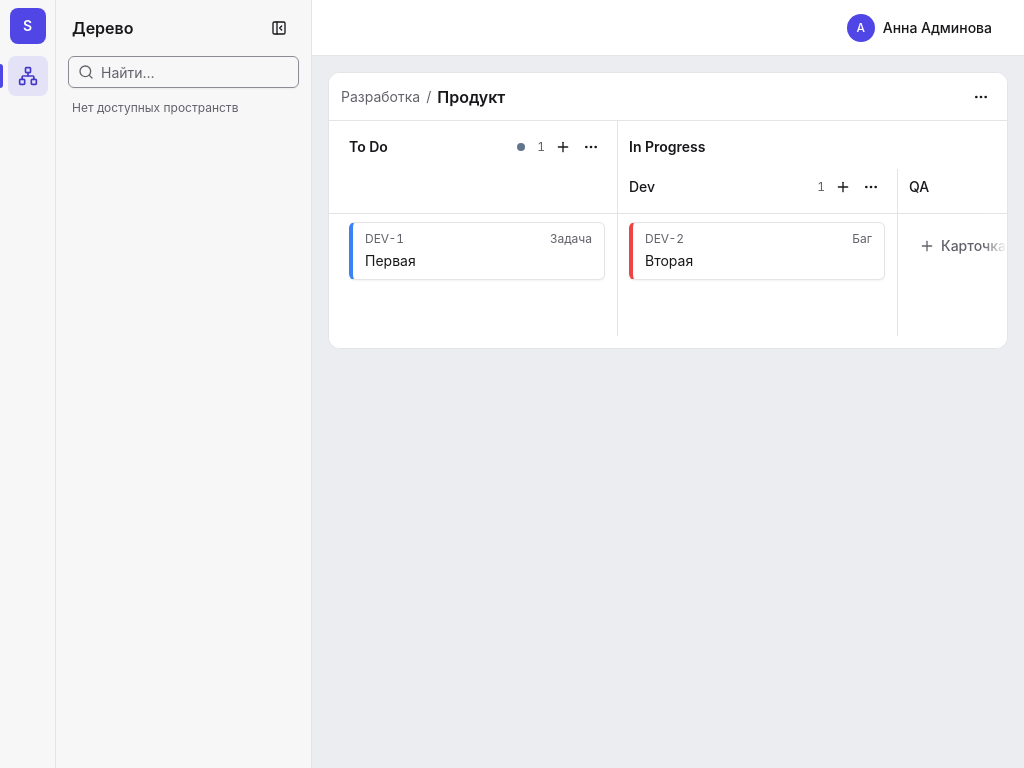
Test: Доска: архив карточек и блокировка на фасаде › ищет в архиве по номеру или названию и восстанавливает карточку
Click the button named "Действия с доской «": click(981, 96) 967,82 -> 995,110
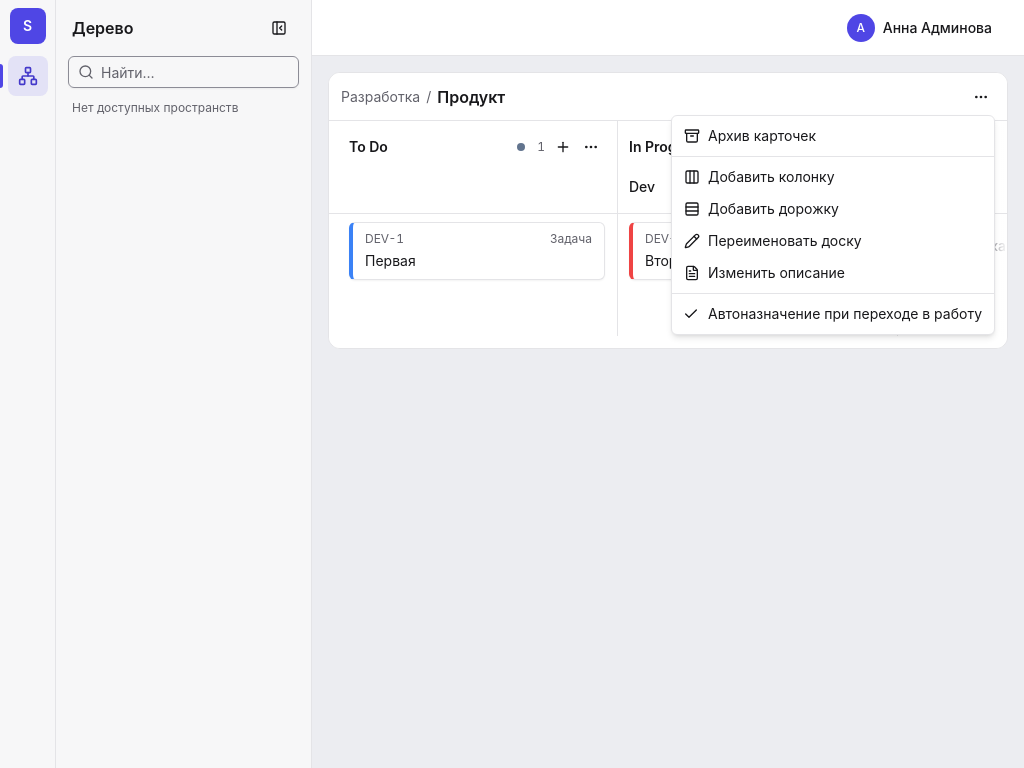
Click the menu item "Архив карточек": click(750, 136) 684,127 -> 816,144
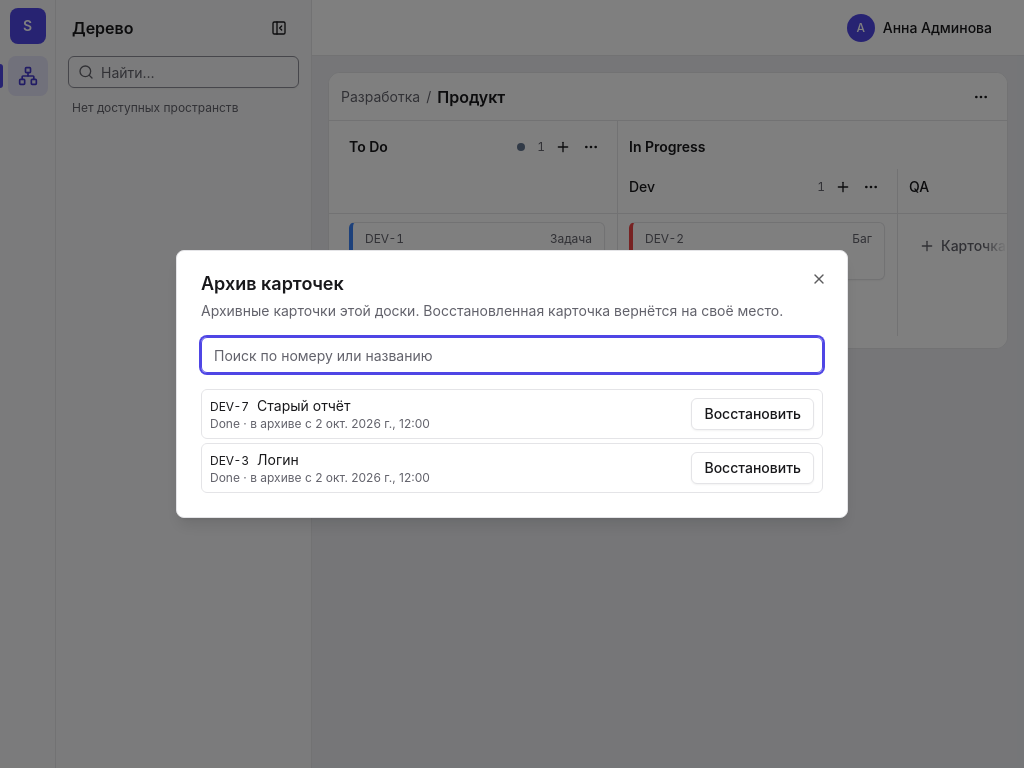
Now the text "Старый отчёт" is shown, box 257,396 -> 350,416
Now the text "Done · в архиве с 2 окт. 2026 г., 12:00" is shown 2 times, box 210,416 -> 430,431; 210,470 -> 430,485
In the field labelled "Поиск по номеру или названию": (512, 355) 201,337 -> 823,373, type "логин"
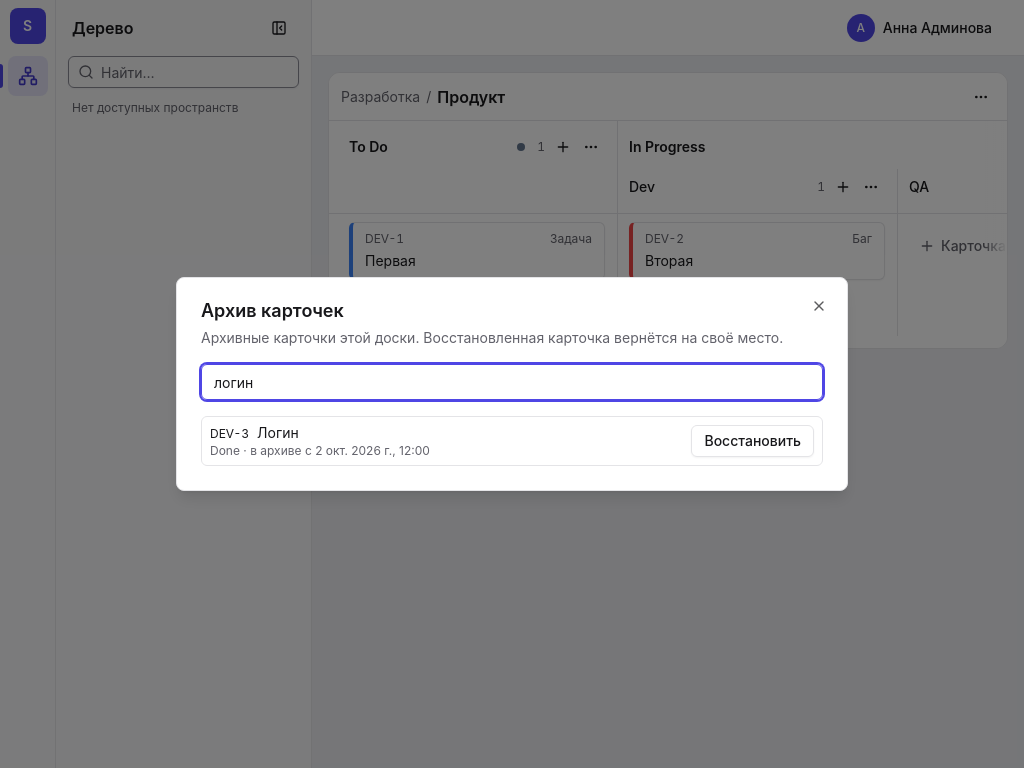
Now the text "Старый отчёт" is gone
Click the button "Восстановить": click(753, 441) 692,425 -> 814,457
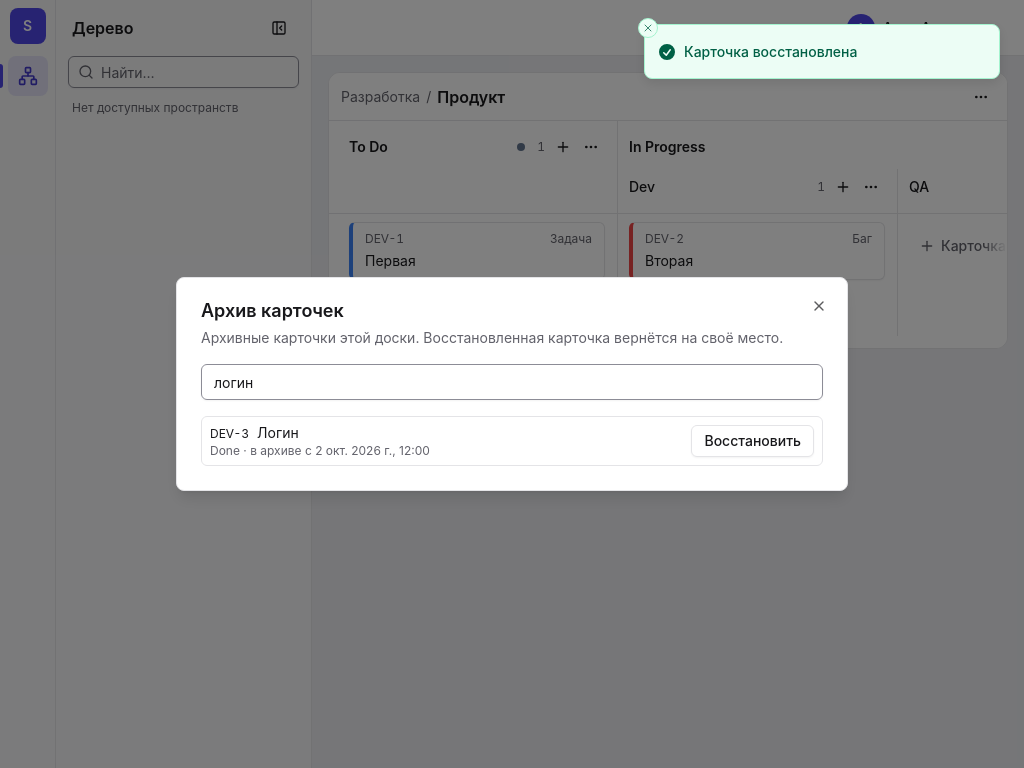
Now the link "DEV-3" is shown, box 210,426 -> 249,442
Now the text "Карточка восстановлена" is shown, box 684,41 -> 857,62
Replace the text in the field named "Поиск по номеру или названию" with "нет такого": (512, 382) 201,364 -> 823,400
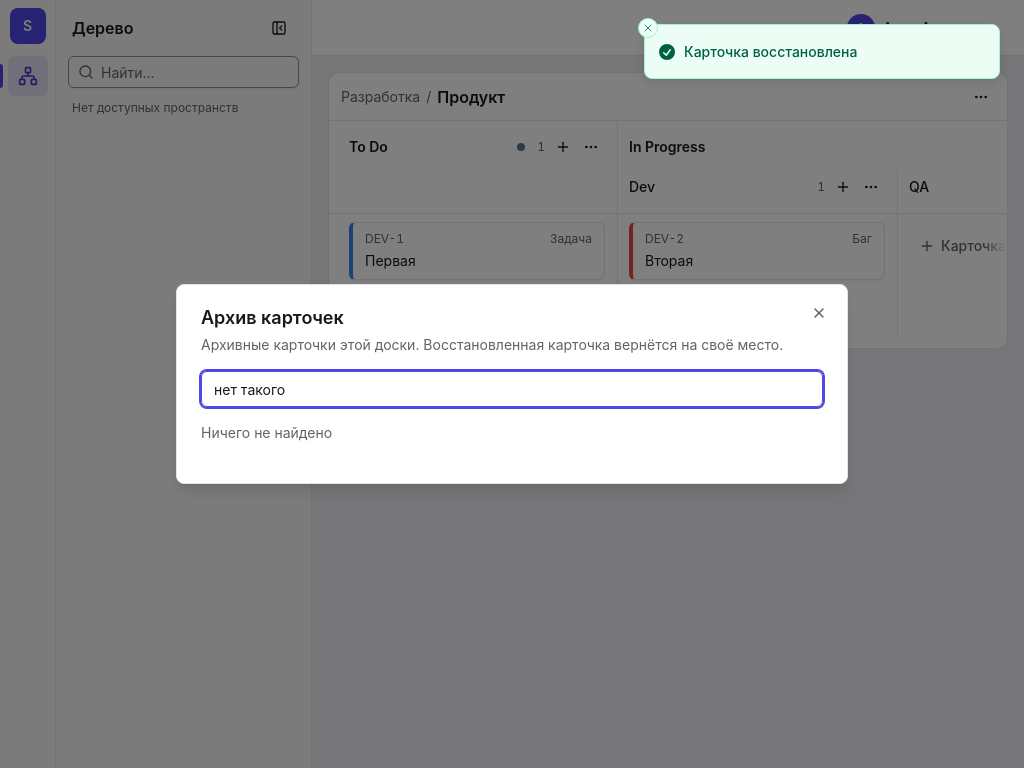
Now the text "Ничего не найдено" is shown, box 201,424 -> 332,441
